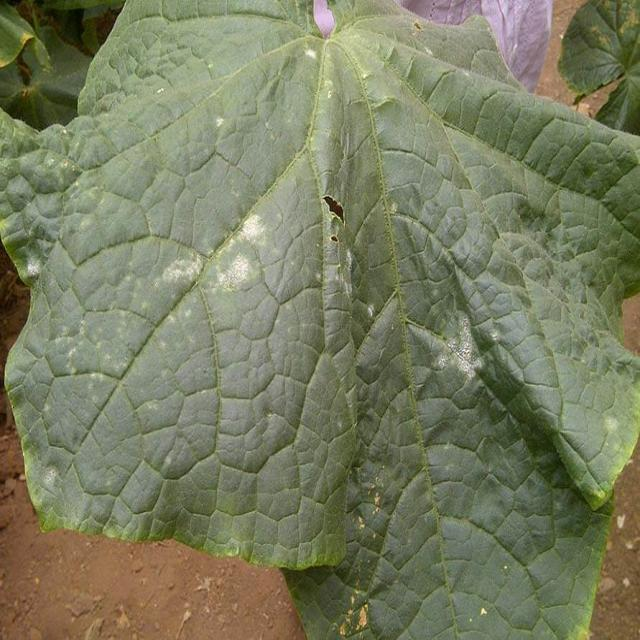Powdery Mildew: (157, 102, 500, 515)
